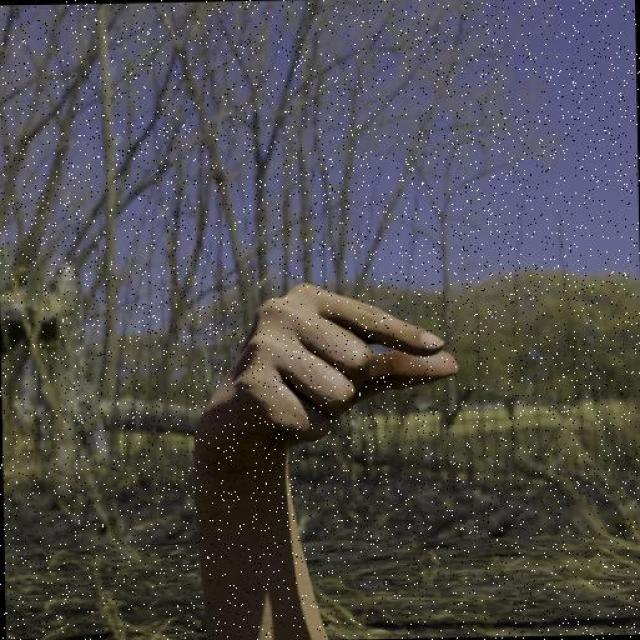G: (183, 275, 464, 473)
